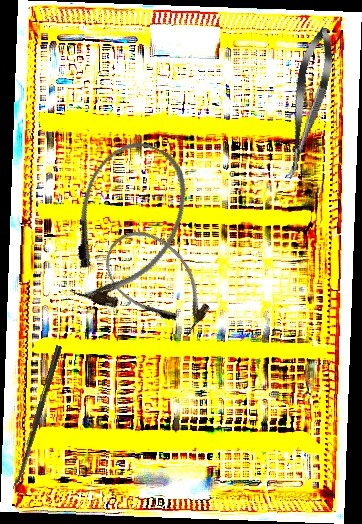Cannula: (44, 128, 206, 322), (91, 215, 225, 348)
Micro Scissor: (274, 24, 341, 183)
Surgical Spoon: (11, 344, 63, 491)
